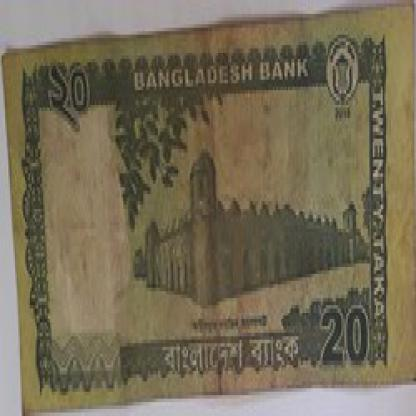Twenty: (321, 295, 373, 378), (43, 59, 98, 132)
